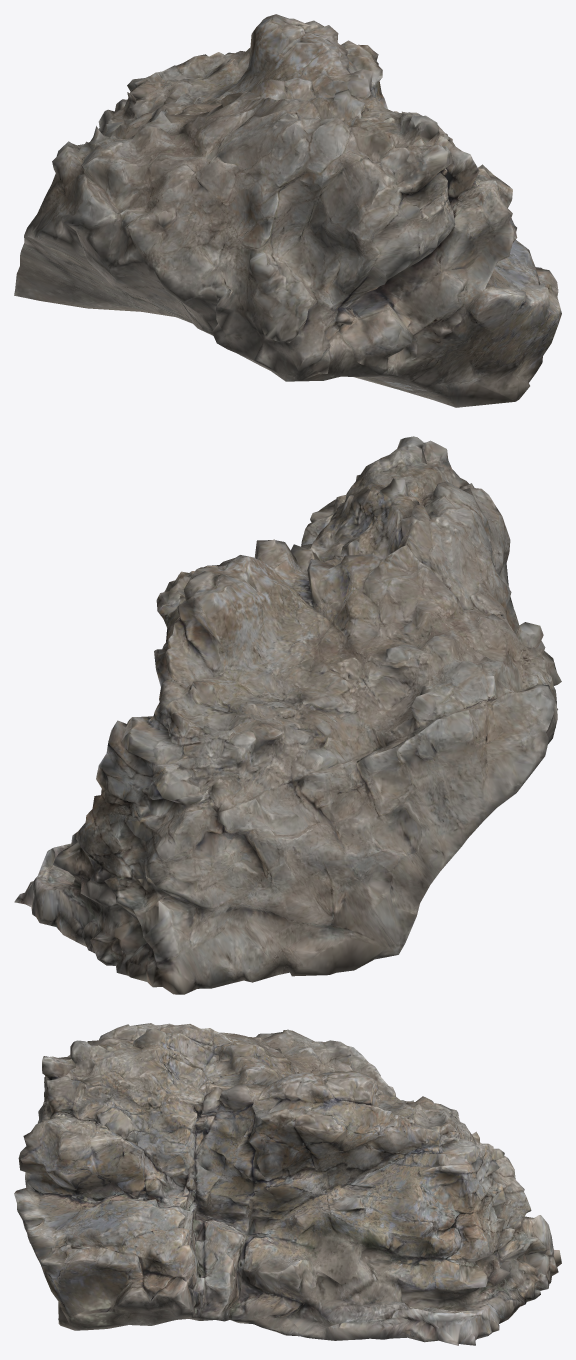
Rendered from boulder_a.glb.
The picture shows the model from 3 angles, top to bottom: view 1: azimuth 30°, elevation 25°; view 2: azimuth 150°, elevation 25°; view 3: azimuth 270°, elevation 25°; orthographic projection. The views are drawn at different scales.
Visible parts, largest first — view 1: boulder_a; view 2: boulder_a; view 3: boulder_a.
Boxes of the visible parts, box(x1,y1,x2,y2) form: boulder_a: box(14, 14, 561, 407); boulder_a: box(14, 436, 561, 994); boulder_a: box(14, 1023, 561, 1345).
Bounding box in the file's own units: 3.81 × 2.71 × 5.4.
Materials: 1 (1 with a texture image).
